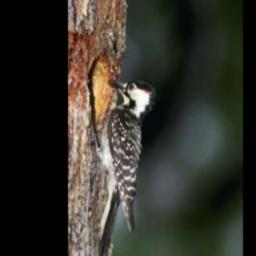Woodpecker: (87, 76, 160, 256)
